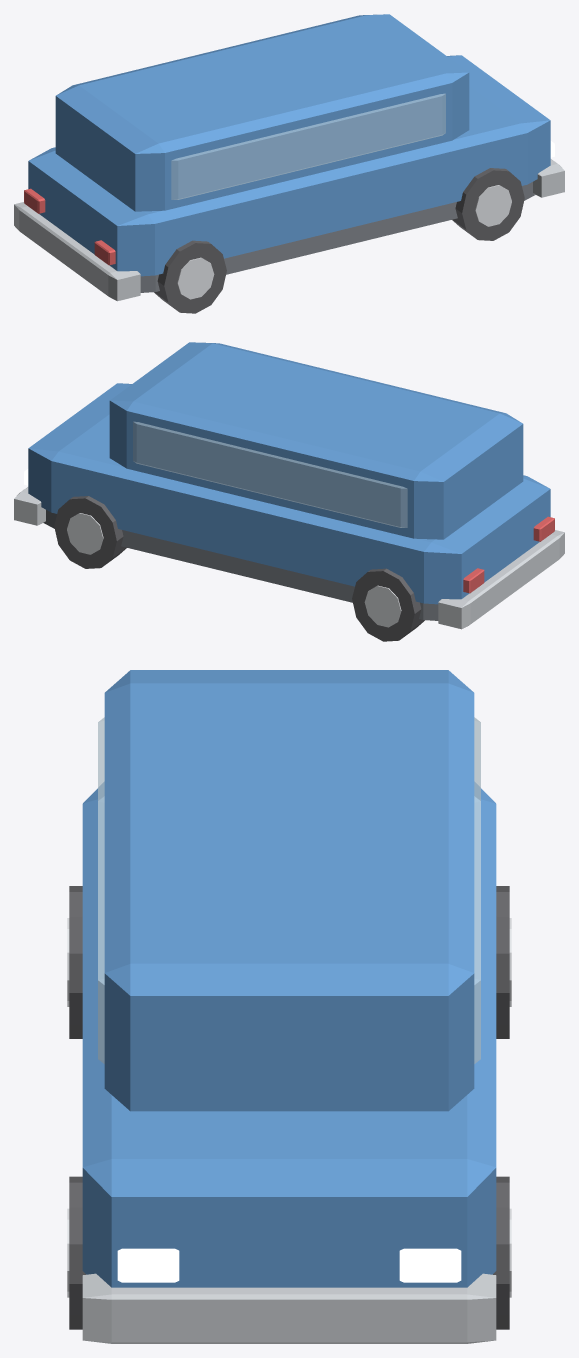
The model's file is b03_longroof_surf_wagon.glb.
3 views of the same model, one above another, from view 1: azimuth 30°, elevation 25°; view 2: azimuth 150°, elevation 25°; view 3: azimuth 270°, elevation 25° (orthographic). The views are drawn at different scales.
Visible parts, largest first — view 1: b03_longroof_surf_wagon; view 2: b03_longroof_surf_wagon; view 3: b03_longroof_surf_wagon.
Part boxes in pixels (<box>): b03_longroof_surf_wagon: <box>14,14,564,313</box>; b03_longroof_surf_wagon: <box>14,342,564,641</box>; b03_longroof_surf_wagon: <box>67,670,511,1343</box>.
Size of the model in its own units: 5.47 by 1.9 by 2.33.
